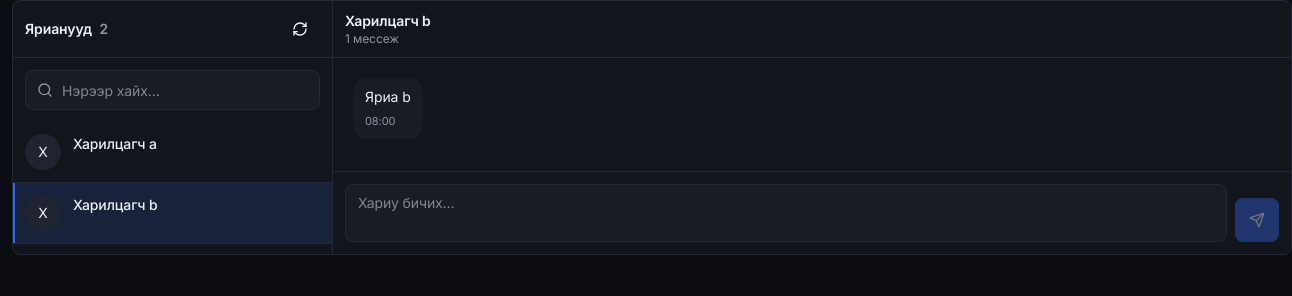
Test case: UI audit regressions › preserves an unsent reply and shows the failure when the server rejects it
Type "Тест хариу" into the text box named "Хариу мессеж".
click(786, 213); type("Тест хариу")  # box [345,184,1227,242]
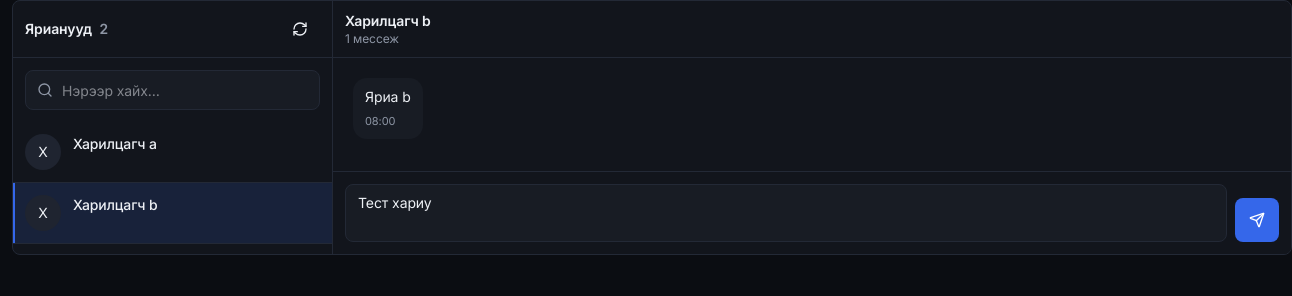
Click the button named "Мессеж илгээх".
click(1257, 220)  # box [1235,198,1279,242]
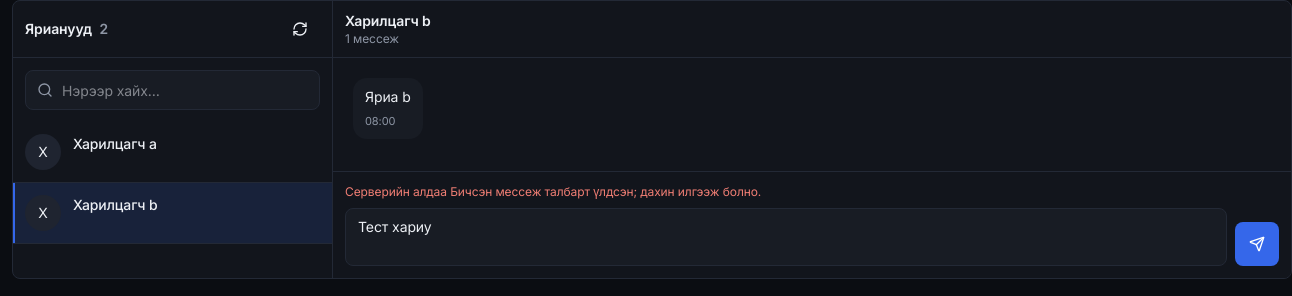
Expected: the message shows "Серверийн алдаа", [345,184,447,199]
